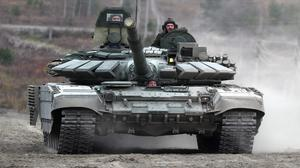t72: (28, 13, 262, 154)
